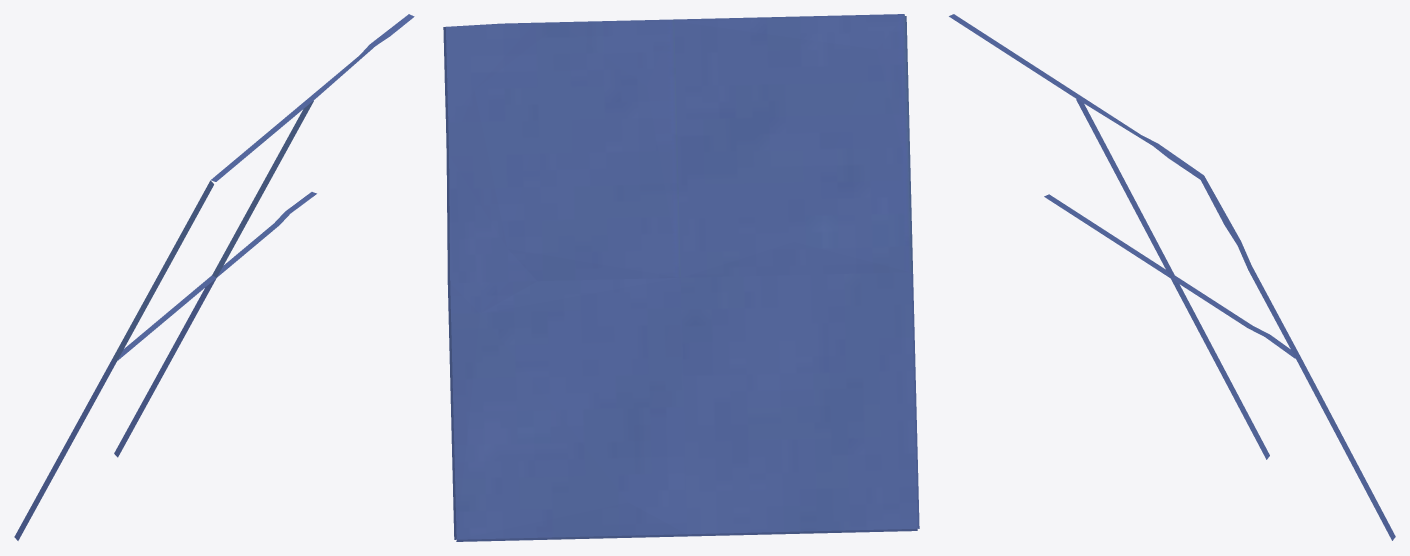
3 views of the same model, side by side, from view 1: azimuth 30°, elevation 25°; view 2: azimuth 150°, elevation 25°; view 3: azimuth 270°, elevation 25° (orthographic). The views are drawn at different scales.
Bounding box in the file's own units: 39342 × 35491 × 34424.
1 material, 1 textured.
